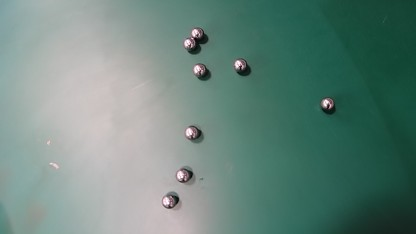ironball: (175, 168, 192, 182), (184, 126, 200, 140), (193, 63, 207, 78), (161, 195, 177, 208), (233, 58, 247, 72), (320, 97, 334, 111), (183, 37, 196, 51), (190, 27, 204, 40)
